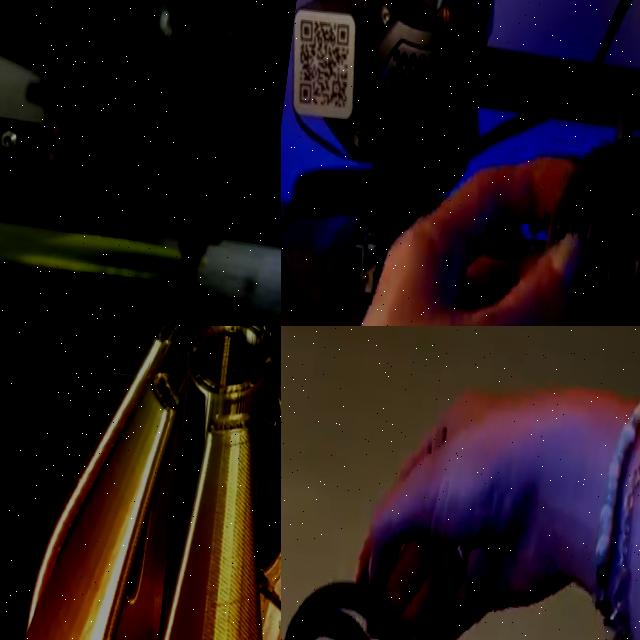spaghetti: (263, 392, 281, 437)
